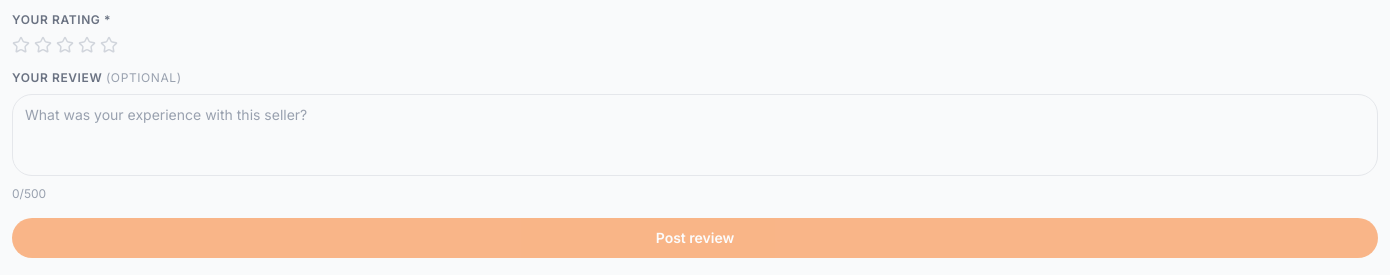
Test: ReviewForm › updates character count as the user types
This screenshot has width=1390, height=275.
Type "Great seller!" into the text box with placeholder "What was your experience with this seller?". click: (695, 135)
box: [12,94,1378,176]
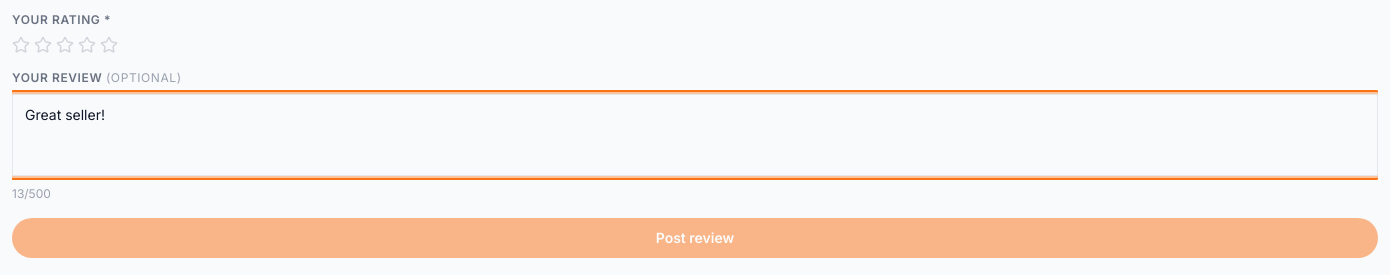
Expected: the text "13/500" is shown, [12,186,51,202]
